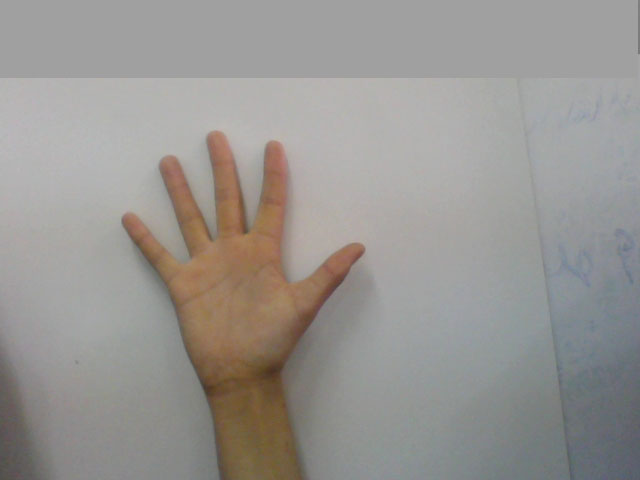hand: (110, 118, 376, 380)
